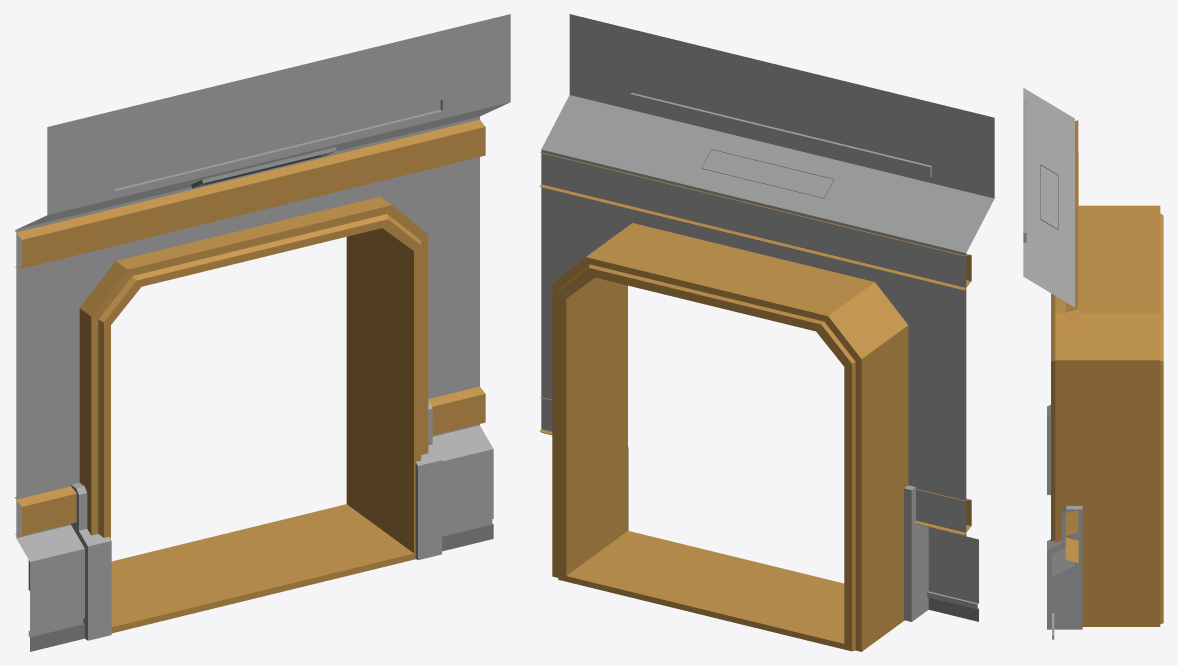
File: DoorDouble_Wall_SideA.gltf
The picture shows the model from 3 angles, left to right: view 1: azimuth 30°, elevation 25°; view 2: azimuth 150°, elevation 25°; view 3: azimuth 270°, elevation 25°; orthographic projection. The views are drawn at different scales.
Parts seen in each view (by area): view 1: DoorDouble_Wall_SideA; view 2: DoorDouble_Wall_SideA; view 3: DoorDouble_Wall_SideA.
Boxes of the visible parts, box(x1,y1,x2,y2) form: DoorDouble_Wall_SideA: box(14, 14, 510, 651); DoorDouble_Wall_SideA: box(539, 14, 994, 651); DoorDouble_Wall_SideA: box(1023, 88, 1163, 639).
Size of the model in its own units: 4 by 4.44 by 1.25.
